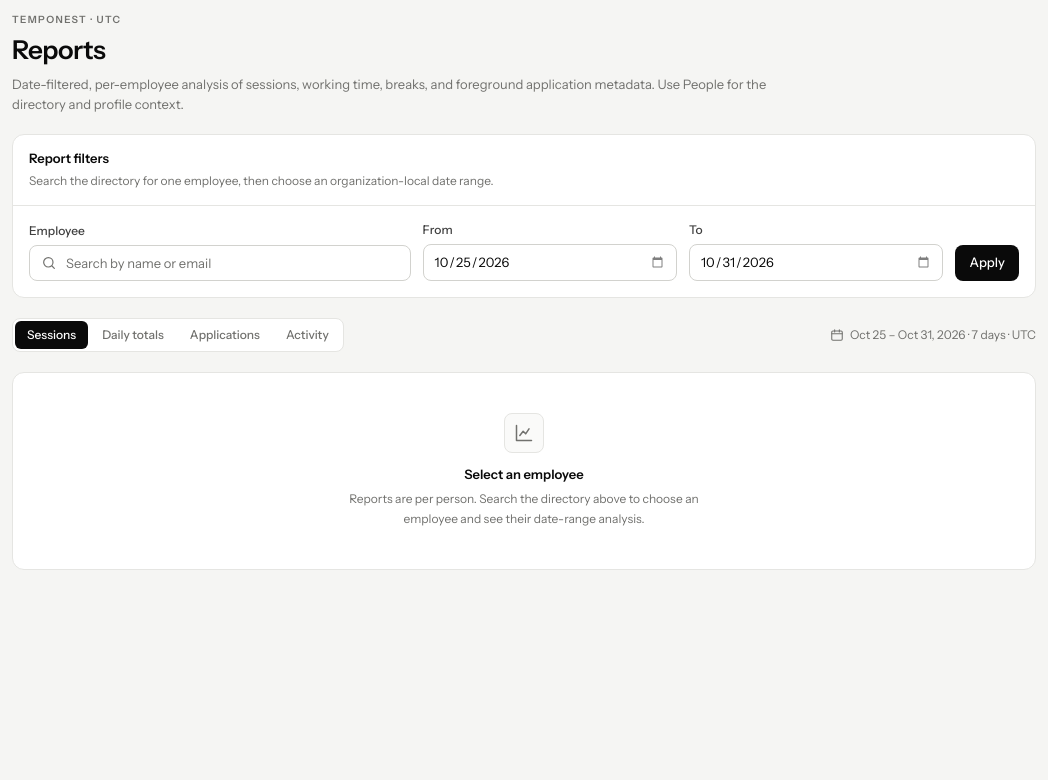
it: ReportsView › searches the employee directory and selects a result
Click the dropdown labelled "Employee" at (220, 263), box [29,245,411,281]
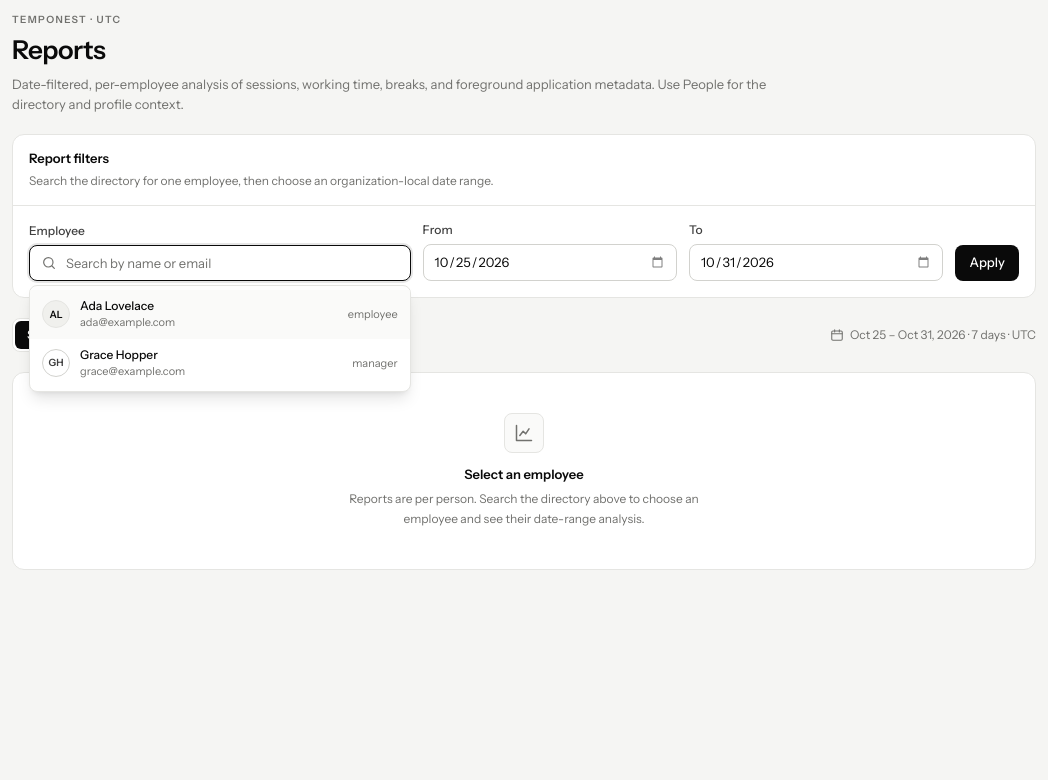
Now the number of options is 2, box [30,290,410,338]; [30,338,410,387]
Type "ada" into the dropdown labelled "Employee" at (220, 263), box [29,245,411,281]
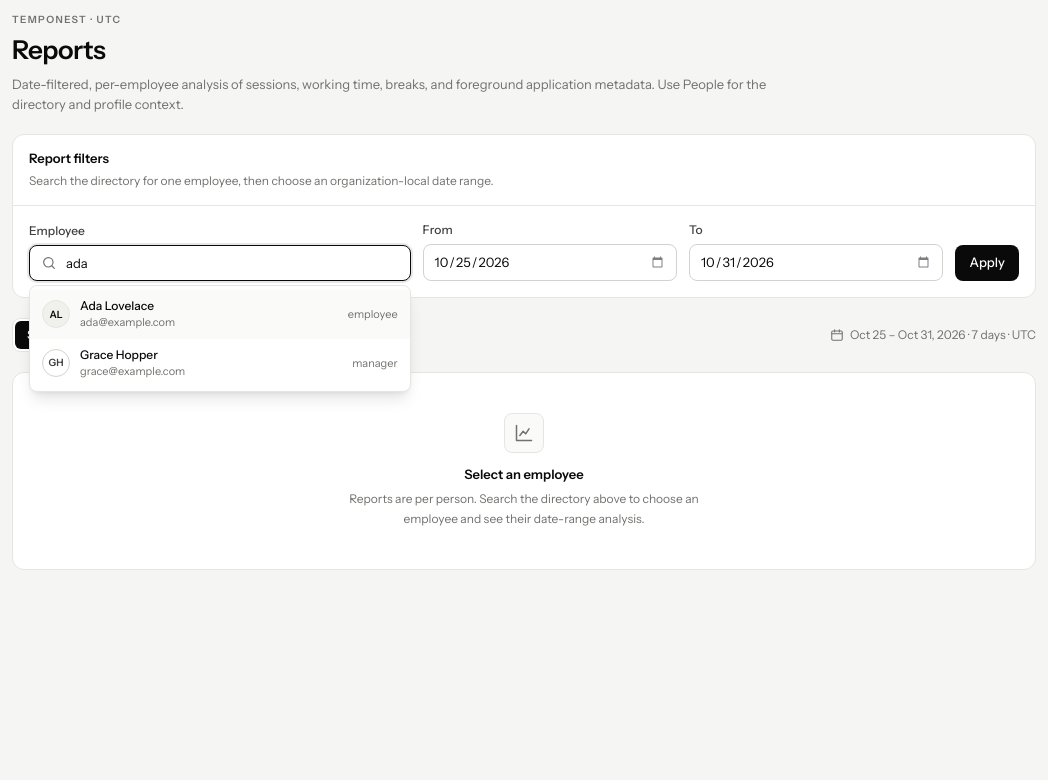
Click the option "AL Ada Lovelace ada@example.com employee" at (117, 306), box [30,290,410,338]
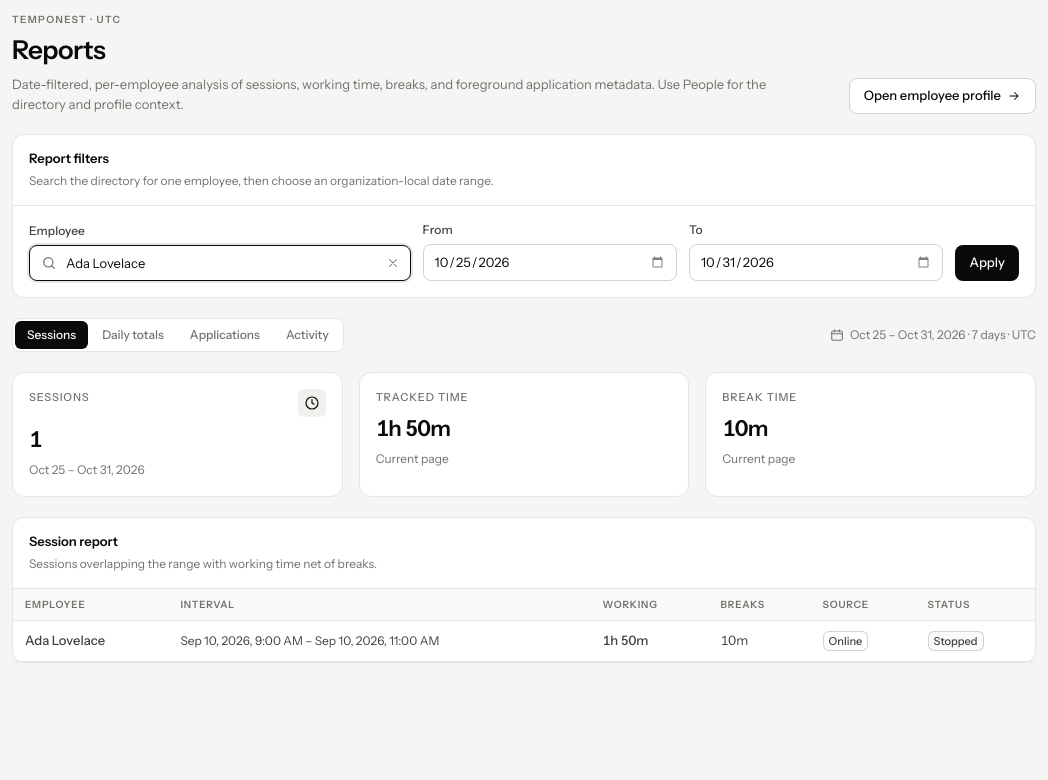
Now the dropdown labelled "Employee" holds "Ada Lovelace", box [29,245,411,281]
